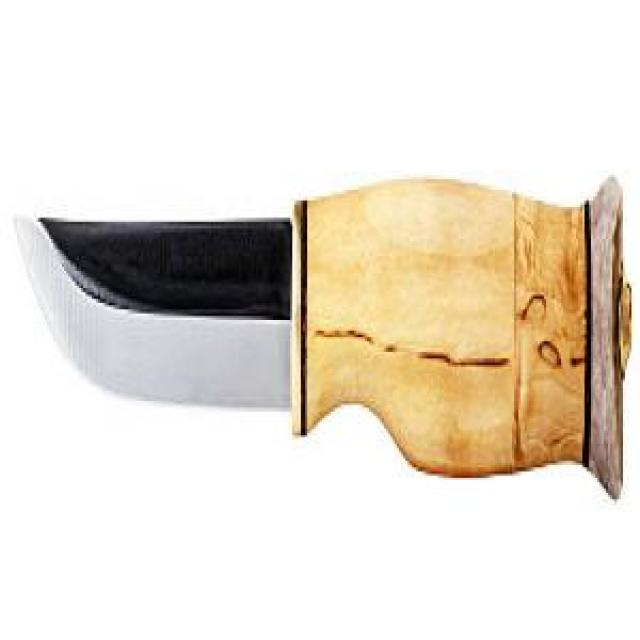knife: (15, 182, 625, 500)
